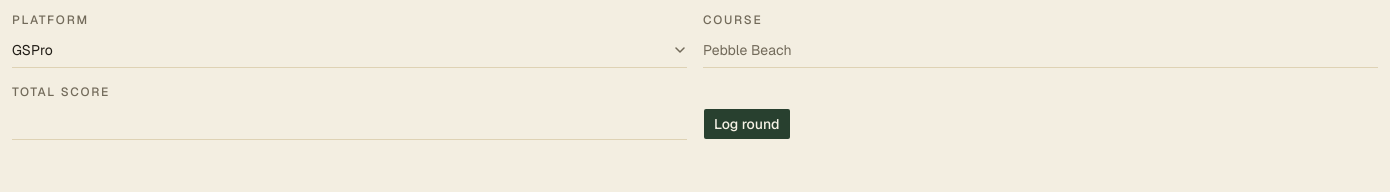
Test case: VirtualRoundForm › shows an error when the course name is blank
Click the button "Log round" at (747, 124), box [703,108,790,140]
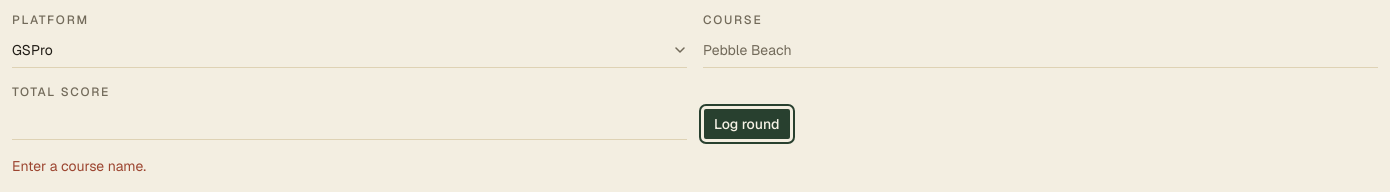
Expected: the message shows "course name", [12,157,146,175]
